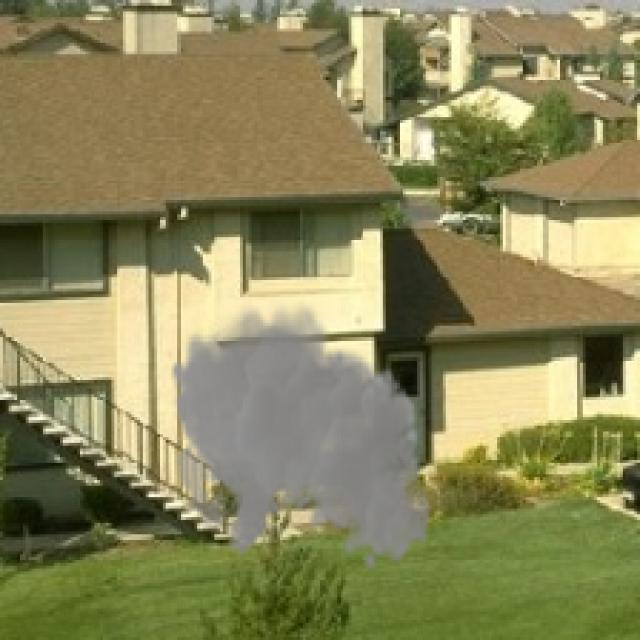Smoke: (168, 294, 432, 572)
